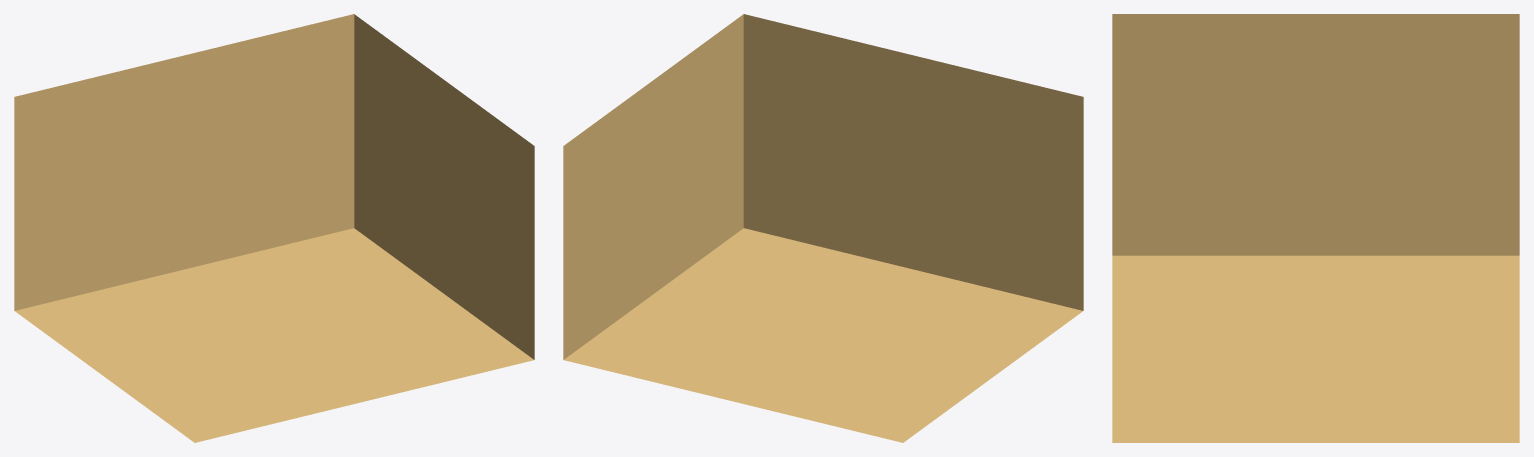
File: mandaps-sci-fi-galactic-portal-004.glb
3 views of the same model, side by side, from view 1: azimuth 30°, elevation 25°; view 2: azimuth 150°, elevation 25°; view 3: azimuth 270°, elevation 25° (orthographic). The views are drawn at different scales.
Visible parts, largest first — view 1: Sci-Fi Galactic Portal Mandaps; view 2: Sci-Fi Galactic Portal Mandaps; view 3: Sci-Fi Galactic Portal Mandaps.
Boxes of the visible parts, left/top/right/bottom form: Sci-Fi Galactic Portal Mandaps: left=14, top=14, right=534, bottom=442; Sci-Fi Galactic Portal Mandaps: left=563, top=14, right=1083, bottom=442; Sci-Fi Galactic Portal Mandaps: left=1112, top=14, right=1519, bottom=442.
Bounding box in the file's own units: 13.05 × 7.86 × 12.
